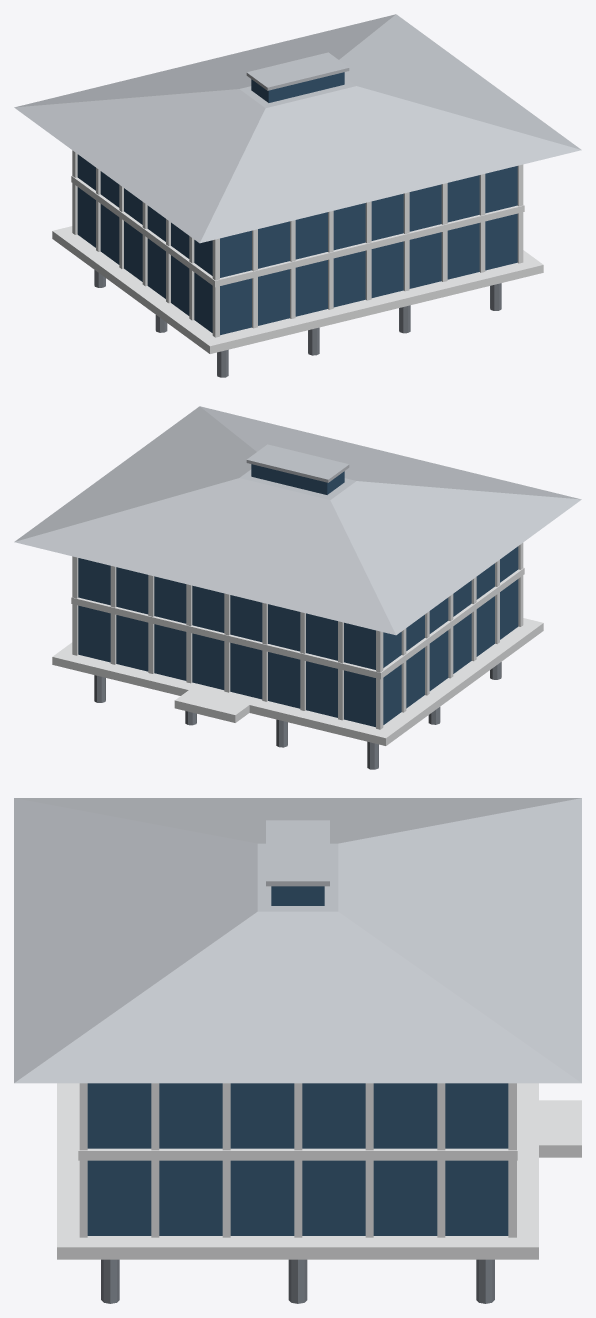
Rendered from shanghai-pabellon.glb.
The picture shows the model from 3 angles, top to bottom: view 1: azimuth 30°, elevation 25°; view 2: azimuth 150°, elevation 25°; view 3: azimuth 270°, elevation 25°; orthographic projection. The views are drawn at different scales.
Visible parts, largest first — view 1: shanghai-pabellon; view 2: shanghai-pabellon; view 3: shanghai-pabellon.
Part boxes in pixels (x1,y1,x2,y2): shanghai-pabellon: (14, 14, 581, 377); shanghai-pabellon: (14, 406, 581, 769); shanghai-pabellon: (14, 798, 581, 1303).
Bounding box in the file's own units: 25.2 × 14.3 × 21.2.
